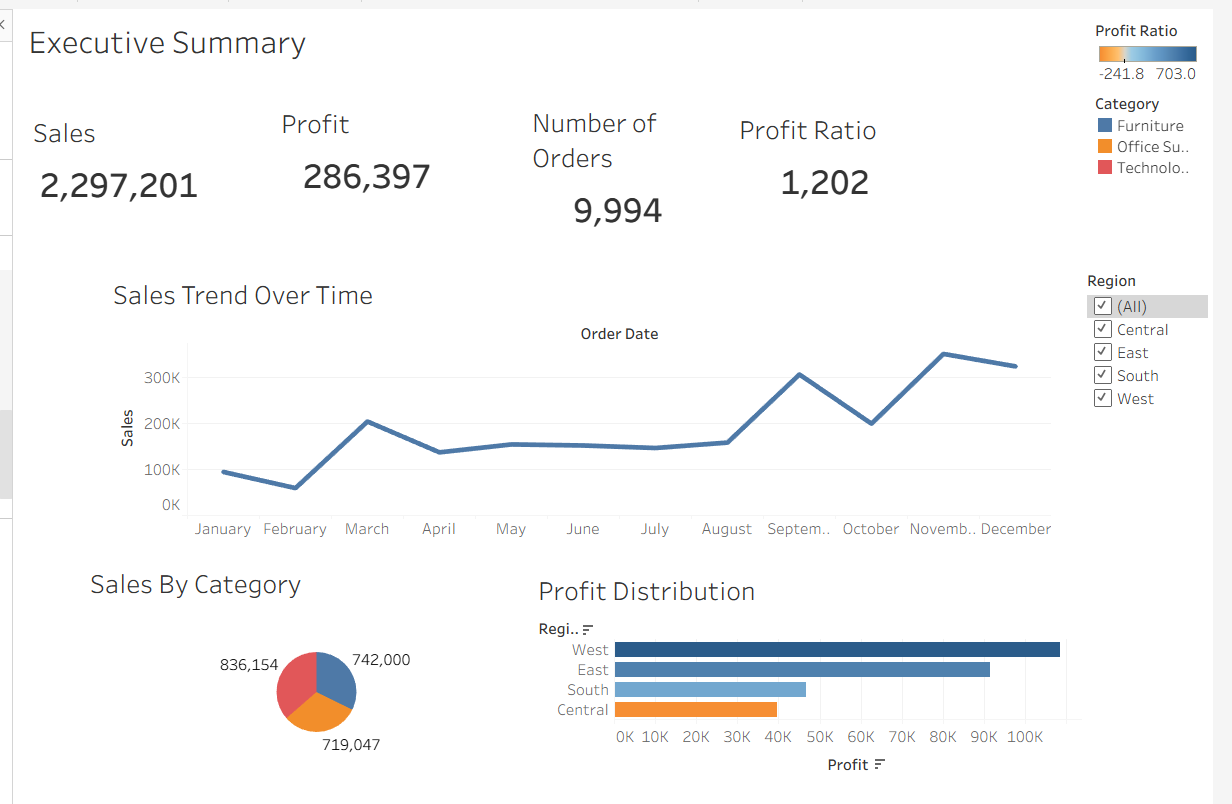

The page's visual inventory and layout, read from the dashboard file:
{"tool":"tableau","page":{"name":"Executive Summary","canvas":[1000,1000],"units":"permille","ordinal":0},"visuals":[{"type":"title","box":[6.7,10,891.7,62.4]},{"type":"legend","title":"Profit By Region","param":"[federated.1n9v9gz08qjdn91aausmd1yoojvh].[sum:Calculation_2120351010008698880:qk","box":[898.3,10,95,91]},{"type":"legend","title":"Sales By Category","param":"[federated.1n9v9gz08qjdn91aausmd1yoojvh].[none:Category:nk]","box":[898.3,101,95,116]},{"type":"worksheet","title":"Number of Orders","mark":"Automatic","box":[429.2,116,184.2,184.5]},{"type":"worksheet","title":"Profit","mark":"Automatic","box":[220,117.2,239.2,217]},{"type":"worksheet","title":"Profit Ratio","mark":"Automatic","box":[601.7,124.7,223.3,172.1]},{"type":"worksheet","title":"Sales","mark":"Automatic","box":[13.3,128.4,217.5,213.2]},{"type":"filter","title":"Sales Trend Over Time","param":"[federated.1n9v9gz08qjdn91aausmd1yoojvh].[none:Region:nk]","box":[895,326.7,100.8,183.3]},{"type":"worksheet","title":"Sales Trend Over Time","mark":"Automatic","rows":["Sales"],"cols":["Order Date"],"box":[80,330.4,785,332.9]},{"type":"worksheet","title":"Sales By Category","mark":"Pie","box":[60.8,690.8,393.3,305.5]},{"type":"worksheet","title":"Profit By Region","mark":"Automatic","rows":["Region"],"cols":["Profit"],"box":[434.2,699.5,456.7,293]}]}

Visuals, with their boxes on the dashboard's canvas, which has no fixed pixel size, in thousandths of its width and height (x1, y1, x2, y2). These are canvas units, not pixel positions in the 1232x804 screenshot, which may show the page scaled, cropped or inside an application window:
title: rect(7, 10, 898, 72)
"Profit By Region" legend: rect(898, 10, 993, 101)
"Sales By Category" legend: rect(898, 101, 993, 217)
"Number of Orders" worksheet: rect(429, 116, 613, 300)
"Profit" worksheet: rect(220, 117, 459, 334)
"Profit Ratio" worksheet: rect(602, 125, 825, 297)
"Sales" worksheet: rect(13, 128, 231, 342)
"Sales Trend Over Time" filter: rect(895, 327, 996, 510)
"Sales Trend Over Time" worksheet: rect(80, 330, 865, 663)
"Sales By Category" worksheet (Pie marks): rect(61, 691, 454, 996)
"Profit By Region" worksheet: rect(434, 700, 891, 992)
